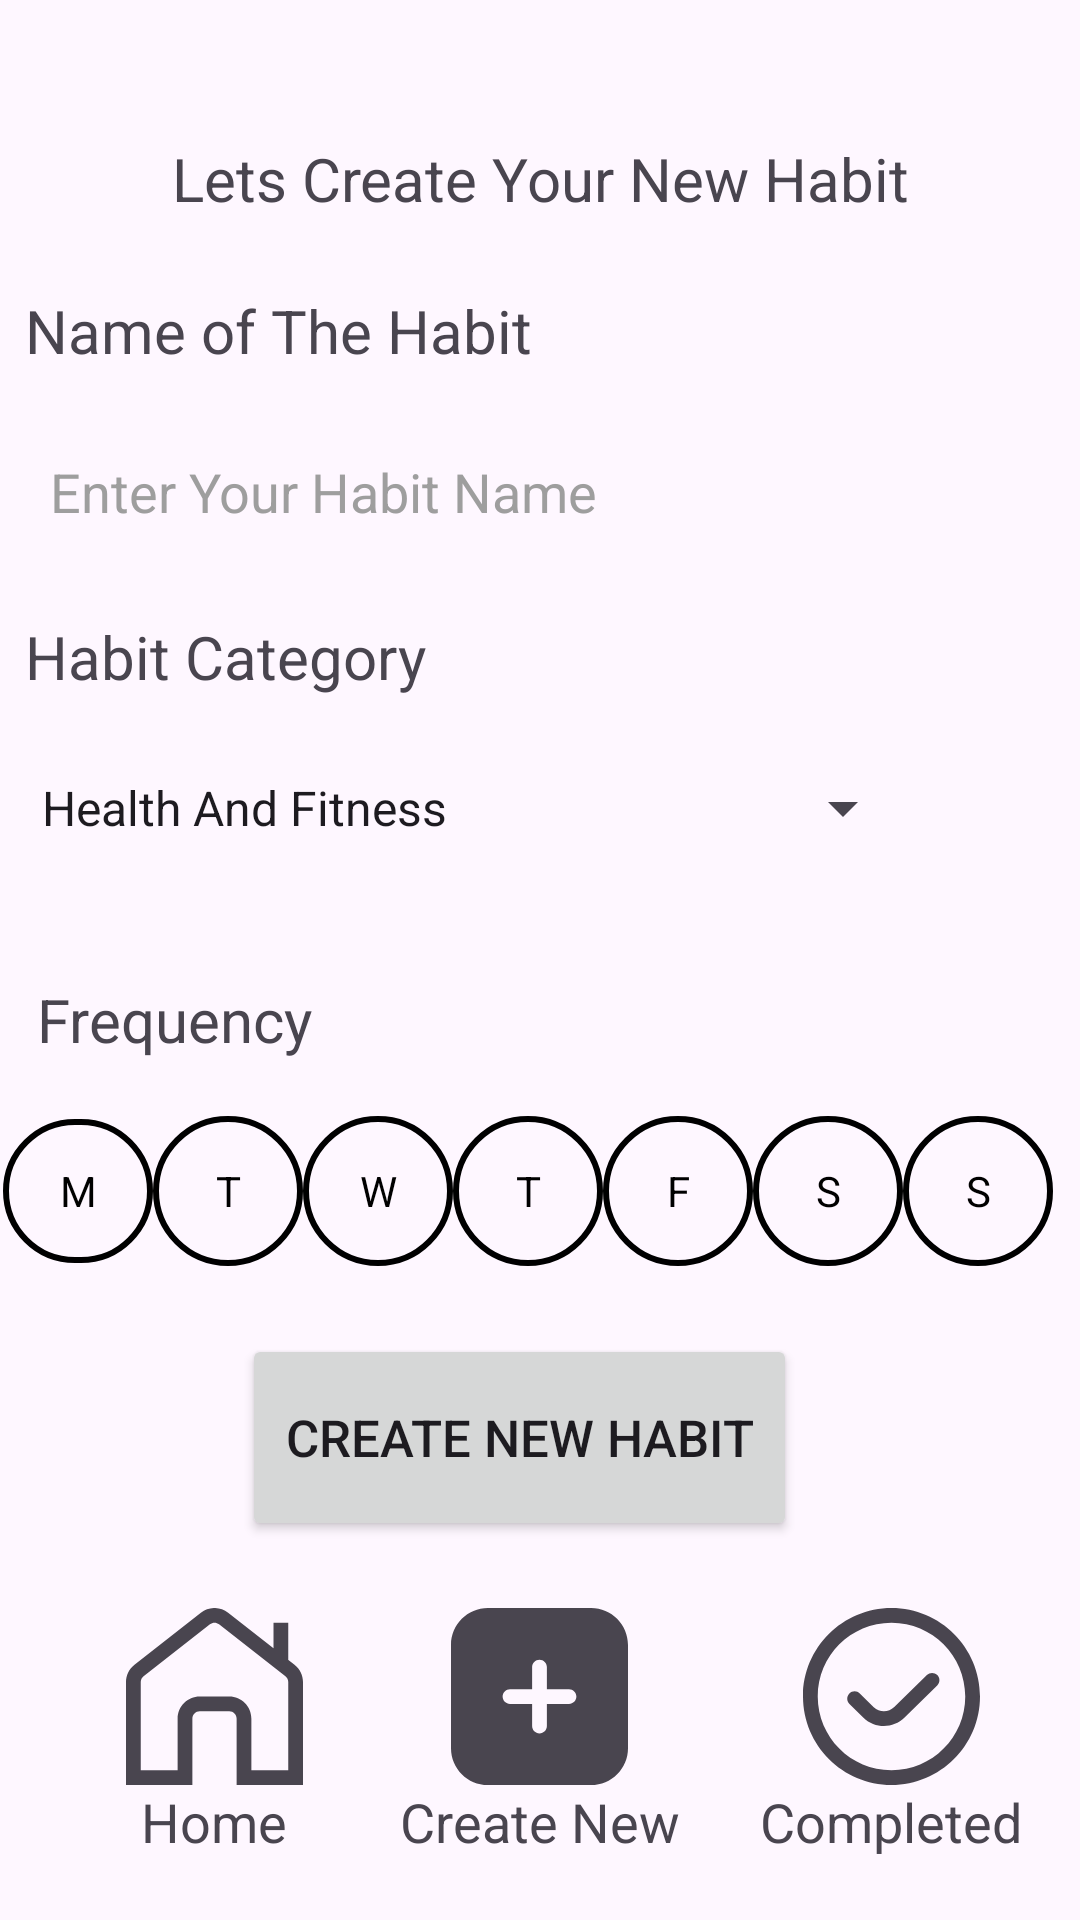

Screen size 1080×1920. Icon name, then its center in pixels as (x,y):
check circle: (891,1696)
